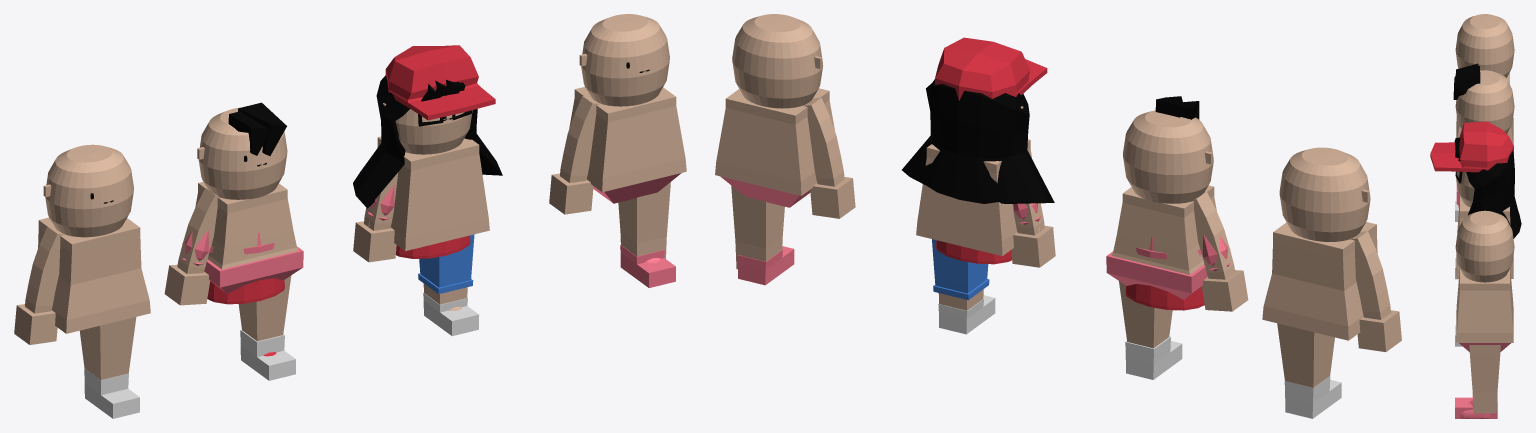
Rendered from CABEZA_M.glb.
3 views of the same model, side by side, from view 1: azimuth 30°, elevation 25°; view 2: azimuth 150°, elevation 25°; view 3: azimuth 270°, elevation 25° (orthographic). The views are drawn at different scales.
Visible parts, largest first — view 1: Cube.038, Cube, Cube.046, Cylinder.003, Cylinder.002, Cube.018, Cylinder.001, Cube.008, Cube.076, Cube.041, Cube.025, Cylinder (+21 smaller); view 2: Cube.076, Cube.038, Cube.046, Cylinder.003, Cylinder.002, Cylinder.001, Cube.008, Cube, Cube.018, Cube.025, Cube.041, Cube.037 (+18 smaller); view 3: Cube.046, Cylinder.002, Cube.018, Cylinder.003, Cylinder.001, Cube.076, Cube.051, Cube.031, Cylinder, Cube, Cube.027, Cube.053 (+3 smaller).
Part boxes in pixels (x1,y1,x2,y2): Cube.038: (38,217,150,333); Cube: (377,136,489,250); Cube.046: (569,87,686,192); Cylinder.003: (45,144,133,237); Cylinder.002: (581,14,669,106); Cube.018: (385,45,495,120); Cylinder.001: (198,107,287,199); Cube.008: (195,181,298,269); Cube.076: (353,75,502,208); Cube.041: (79,317,136,379); Cube.025: (618,184,668,256); Cylinder: (395,109,472,154); Cube.076: (902,79,1054,204); Cube.038: (1262,222,1377,340); Cube.046: (715,88,834,195); Cylinder.003: (1279,147,1370,241); Cylinder.002: (732,14,823,108); Cylinder.001: (1123,110,1213,203); Cube.008: (1111,185,1216,274); Cube: (916,139,1031,256); Cube.018: (935,37,1047,100); Cube.025: (733,187,784,261); Cube.041: (1277,323,1334,387); Cube.037: (1106,249,1230,299); Cube.046: (1456,268,1513,342); Cylinder.002: (1455,210,1514,282); Cube.018: (1430,121,1513,172); Cylinder.003: (1455,14,1514,77); Cylinder.001: (1455,70,1514,133); Cube.076: (1458,151,1521,238); Cube.051: (1469,345,1500,413); Cube.031: (1453,65,1480,99); Cylinder: (1455,171,1474,207); Cube: (1456,196,1513,278); Cube.027: (1455,392,1497,418); Cube.053: (1460,400,1490,418).
Size of the model in its own units: 17.53 by 7.02 by 2.85.
